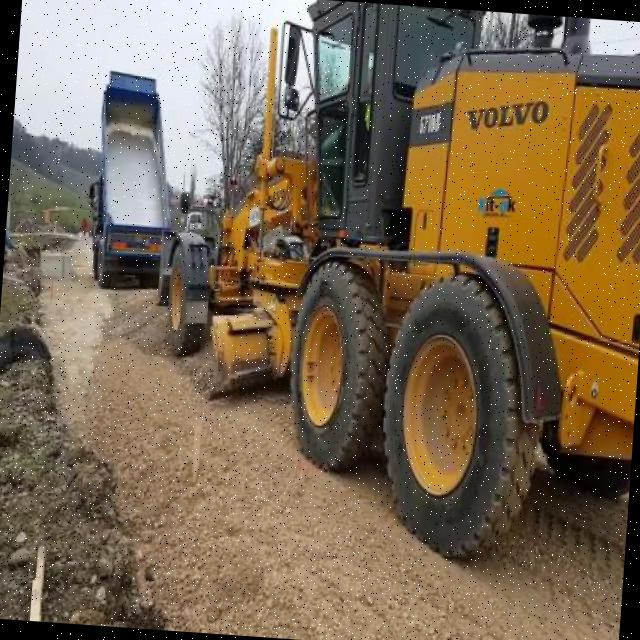Dump Truck: (80, 62, 188, 292)
Grader: (149, 0, 640, 566)
